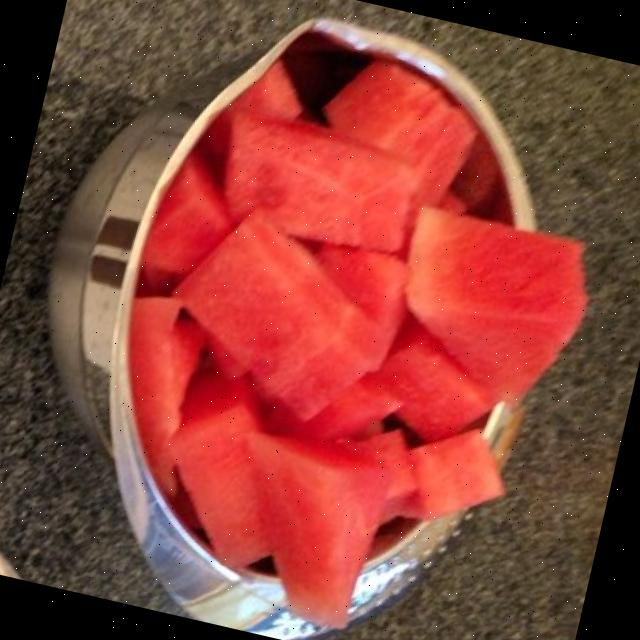watermelon-fresh: (137, 48, 576, 608)
